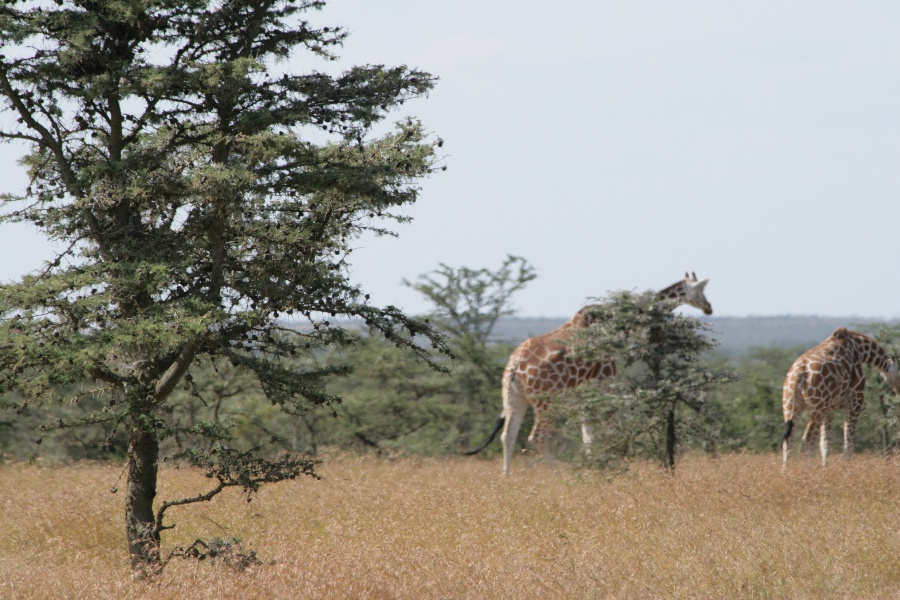giraffe: (491, 266, 721, 484), (772, 325, 898, 466)
